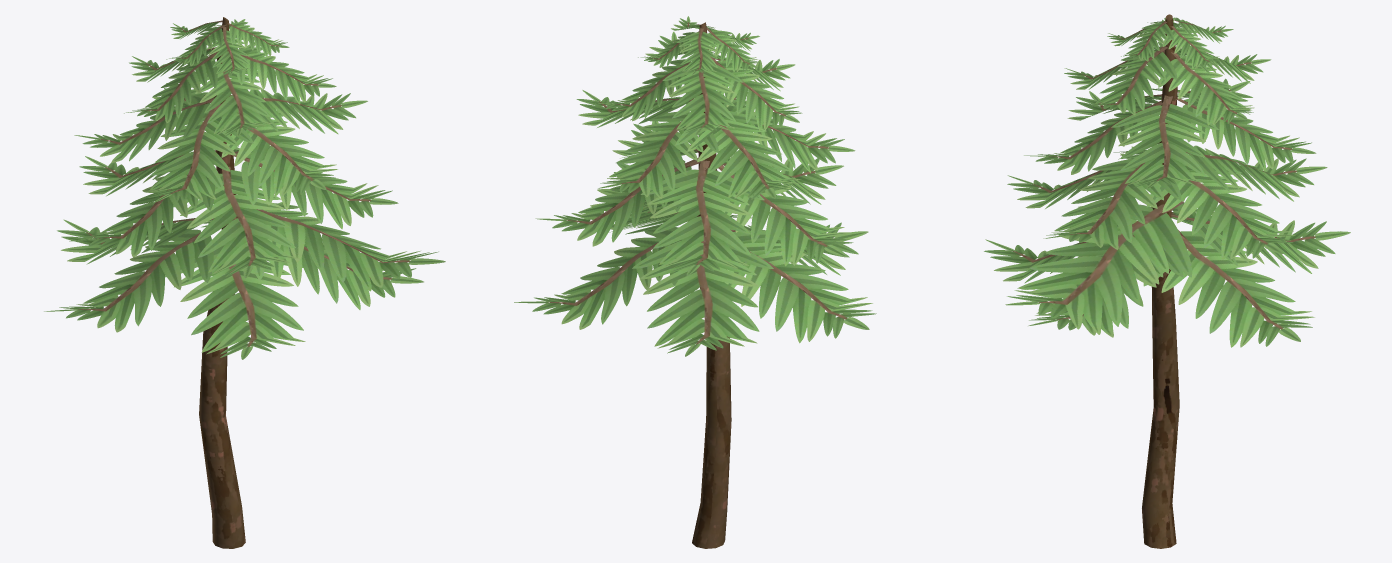
File: quaternius-textured-stylized-trees-pine-4.glb
3 renders of one model, left to right at view 1: azimuth 30°, elevation 25°; view 2: azimuth 150°, elevation 25°; view 3: azimuth 270°, elevation 25°, orthographic.
Visible parts, largest first — view 1: Pine_4; view 2: Pine_4; view 3: Pine_4.
Boxes of the visible parts, left/top/right/bottom form: Pine_4: left=44, top=17, right=445, bottom=548; Pine_4: left=514, top=16, right=876, bottom=548; Pine_4: left=984, top=14, right=1350, bottom=548.
Bounding box in the file's own units: 4.31 × 5.67 × 4.18.
Materials: 2 (2 with a texture image).
